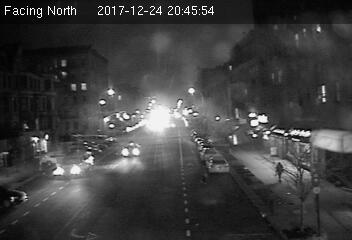car: (51, 153, 96, 177), (205, 155, 229, 174), (119, 139, 142, 157)
pedestrian: (273, 160, 283, 183)
